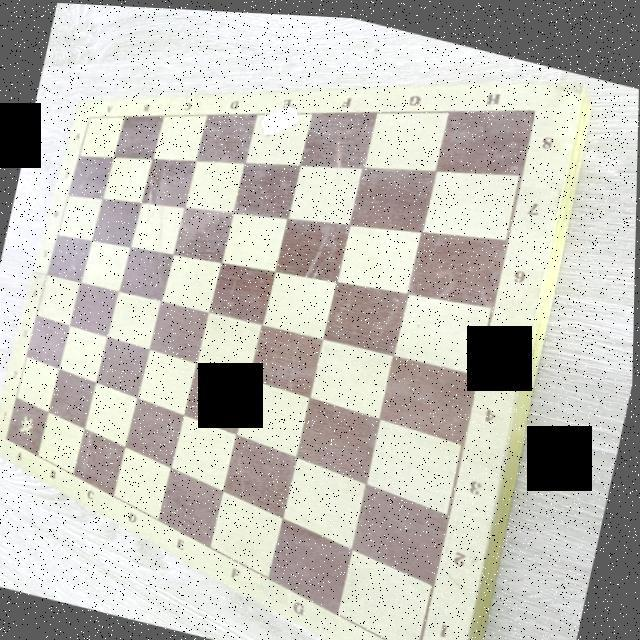chess-table-corners: (520, 93, 548, 117), (81, 108, 98, 125), (1, 432, 14, 446)
